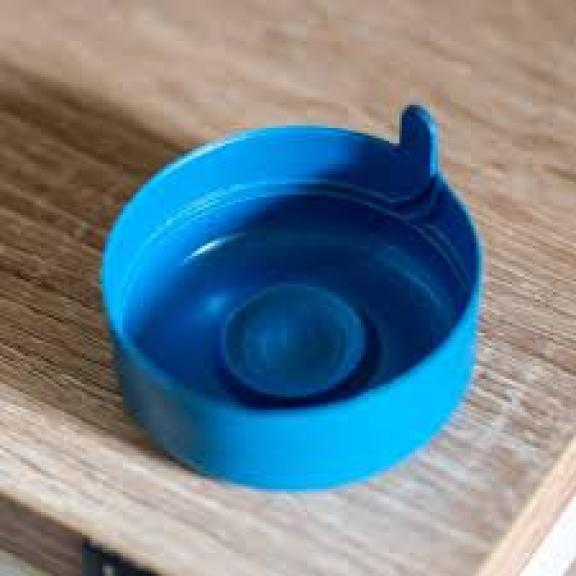Plastik: (100, 105, 486, 492)
